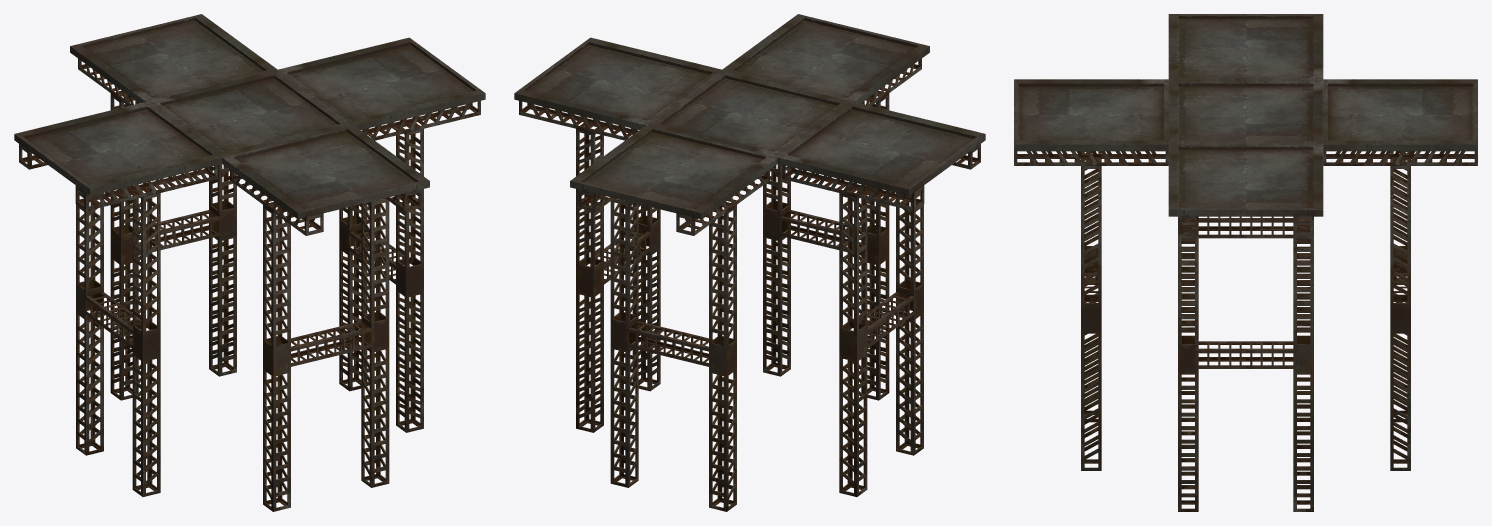
File: OBJ_Cross_Platform.fbx
The picture shows the model from 3 angles, left to right: view 1: azimuth 30°, elevation 25°; view 2: azimuth 150°, elevation 25°; view 3: azimuth 270°, elevation 25°; orthographic projection.
Parts seen in each view (by area): view 1: Cross_Platform; view 2: Cross_Platform; view 3: Cross_Platform.
Boxes of the visible parts, left/top/right/bottom form: Cross_Platform: left=14, top=14, right=485, bottom=511; Cross_Platform: left=514, top=14, right=985, bottom=511; Cross_Platform: left=1014, top=14, right=1477, bottom=511.
Size of the model in its own units: 12 by 12 by 9.43.
